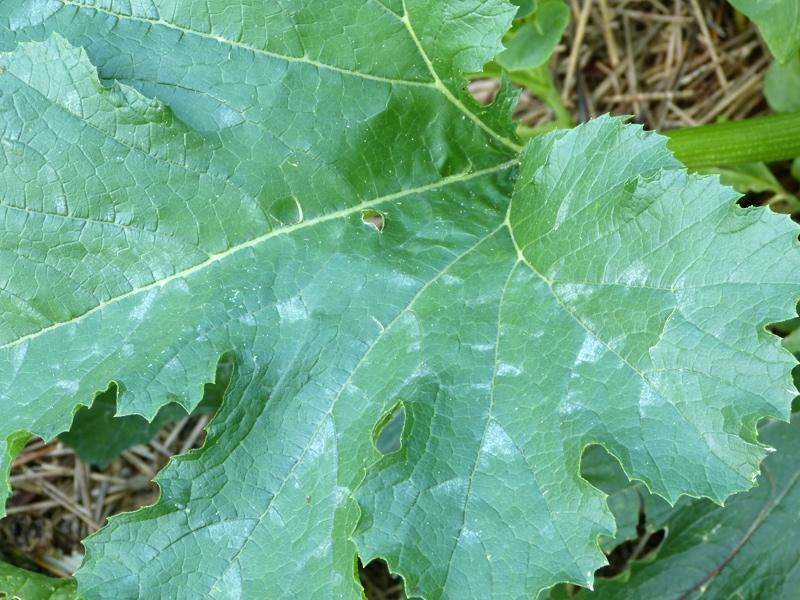Squash Powdery mildew leaf: (1, 1, 800, 591)
